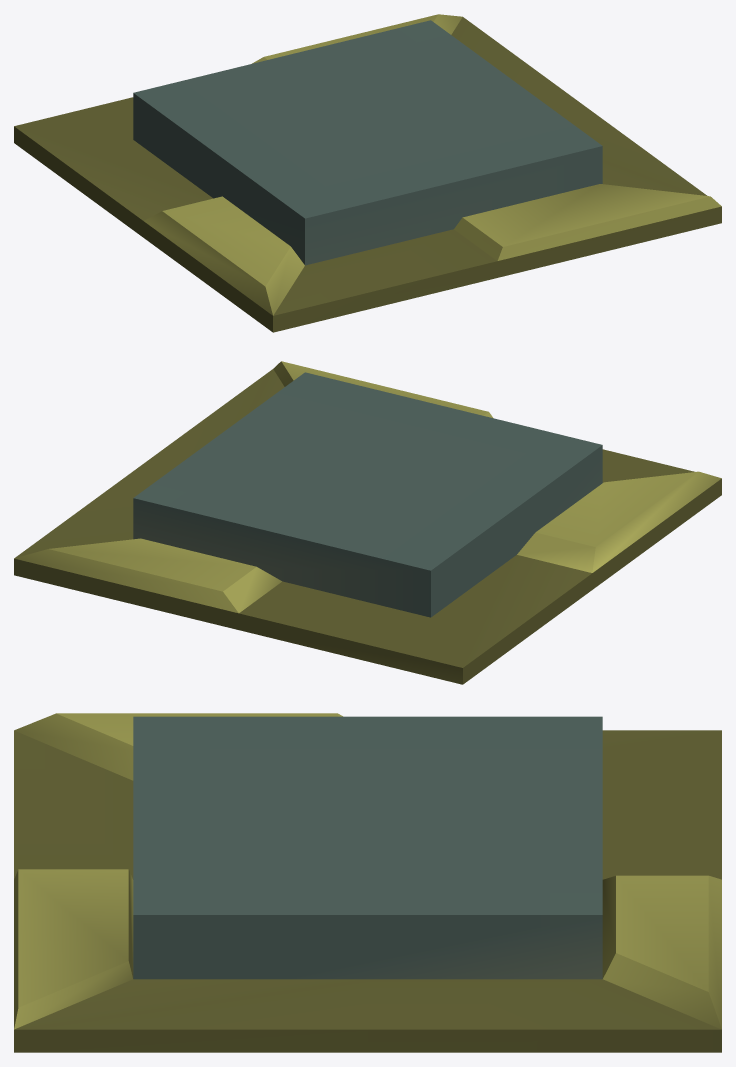
The model's file is Switch.fbx.
3 views of the same model, one above another, from view 1: azimuth 30°, elevation 25°; view 2: azimuth 150°, elevation 25°; view 3: azimuth 270°, elevation 25° (orthographic). The views are drawn at different scales.
Visible parts, largest first — view 1: Switch; view 2: Switch; view 3: Switch.
Boxes of the visible parts, left/top/right/bottom form: Switch: left=14, top=14, right=721, bottom=332; Switch: left=14, top=361, right=721, bottom=684; Switch: left=14, top=713, right=721, bottom=1052.
Bounding box in the file's own units: 0.6675 × 0.0979 × 0.6675.
